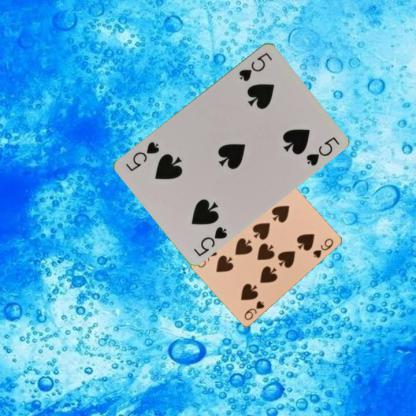5s: (191, 223, 228, 258), (236, 49, 273, 83)
9s: (242, 298, 265, 322)
